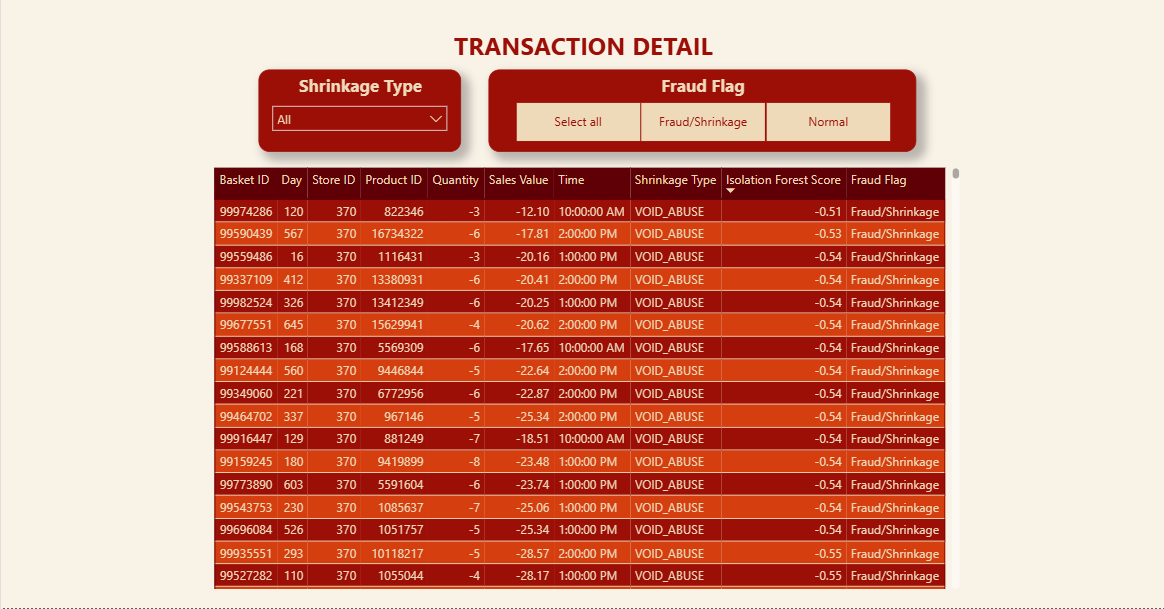

This screenshot's page, from the dashboard's own definition file:
{"tool":"powerbi","page":{"name":"Transaction Detail","canvas":[1280,720],"ordinal":4},"visuals":[{"type":"tableEx","fields":{"Values":["fact_transactions.BASKET_ID","fact_transactions.DAY","fact_transactions.STORE_ID","fact_transactions.PRODUCT_ID","Sum(fact_transactions.QUANTITY)","Sum(fact_transactions.SALES_VALUE)","fact_transactions.TIME_READABLE","fact_transactions.SHRINKAGE_TYPE","Sum(fact_transactions.IF_score_v3)","fact_transactions.FRAUD_FLAG"]},"box":[227.8,231.9,830.2,472],"z":0},{"type":"slicer","title":"Shrinkage Type","fields":{"Values":["fact_transactions.SHRINKAGE_TYPE"]},"box":[282.4,129,222.3,90.6],"z":1000},{"type":"slicer","title":"Fraud Flag","fields":{"Values":["fact_transactions.FRAUD_FLAG"]},"box":[535.4,129.3,469.3,90.6],"z":3000},{"type":"textbox","box":[474.8,79.6,329.3,48],"z":3001}]}

Visuals, with their boxes on the page's 1280x720 design canvas (x1, y1, x2, y2). These are canvas units, not pixel positions in the 1164x609 screenshot, which may show the page scaled, cropped or inside an application window:
tableEx - fact_transactions.BASKET_ID x fact_transactions.DAY: pyautogui.locateOnScreen(228, 232, 1058, 704)
"Shrinkage Type" slicer: pyautogui.locateOnScreen(282, 129, 505, 220)
"Fraud Flag" slicer: pyautogui.locateOnScreen(535, 129, 1005, 220)
textbox: pyautogui.locateOnScreen(475, 80, 804, 128)
